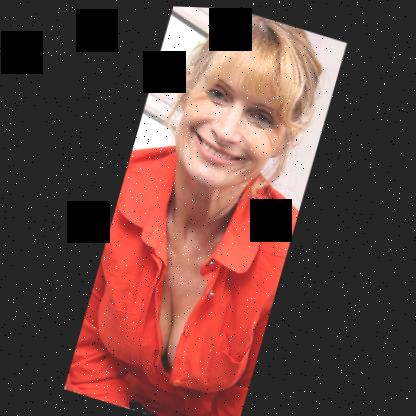Female: (155, 27, 312, 204)
